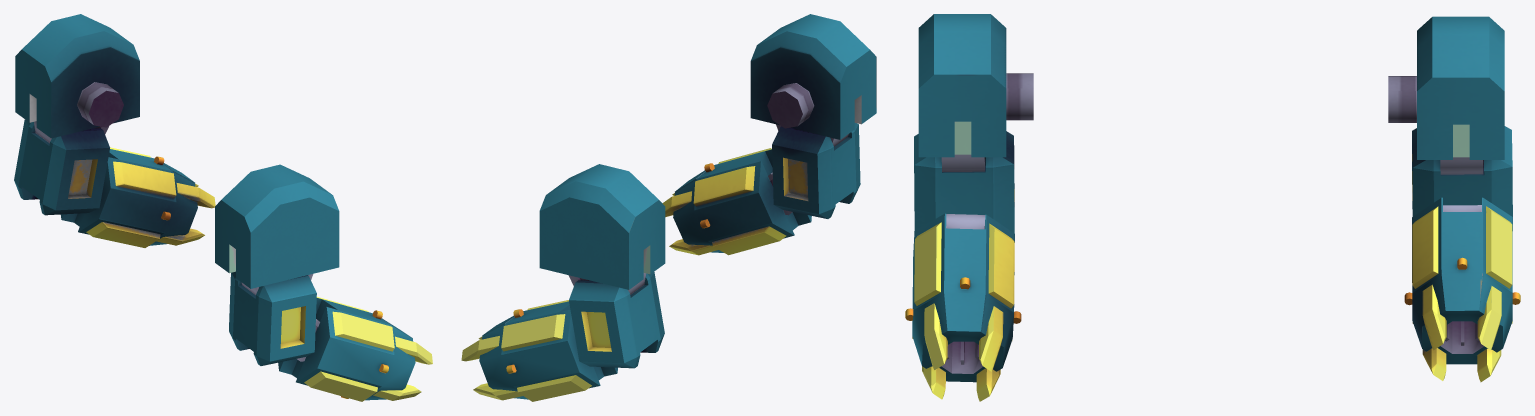
Rendered from Player_Idle11.obj.
3 renders of one model, left to right at view 1: azimuth 30°, elevation 25°; view 2: azimuth 150°, elevation 25°; view 3: azimuth 270°, elevation 25°, orthographic. The views are drawn at different scales.
Visible parts, largest first — view 1: Object005, Object003, Object001, Object007, Object006, Object002; view 2: Object003, Object005, Object001, Object007, Object006, Object002; view 3: Object001, Object007, Object003, Object005, Object002, Object006.
Boxes of the visible parts, x1,y1,x2,y2 form: Object005: [15, 14, 139, 138]; Object003: [215, 164, 339, 288]; Object001: [278, 296, 432, 401]; Object007: [60, 147, 215, 247]; Object006: [14, 119, 109, 215]; Object002: [229, 271, 316, 365]; Object003: [750, 14, 876, 139]; Object005: [539, 164, 665, 289]; Object001: [662, 148, 811, 255]; Object007: [461, 300, 617, 401]; Object006: [568, 272, 664, 368]; Object002: [772, 123, 860, 218]; Object001: [905, 213, 1021, 401]; Object007: [1404, 197, 1520, 382]; Object003: [918, 14, 1033, 157]; Object005: [1388, 16, 1504, 159]; Object002: [914, 131, 1014, 233]; Object006: [1412, 126, 1512, 230].
Size of the model in its own units: 36.77 by 45.42 by 83.7.
Materials: 1 (1 with a texture image).
